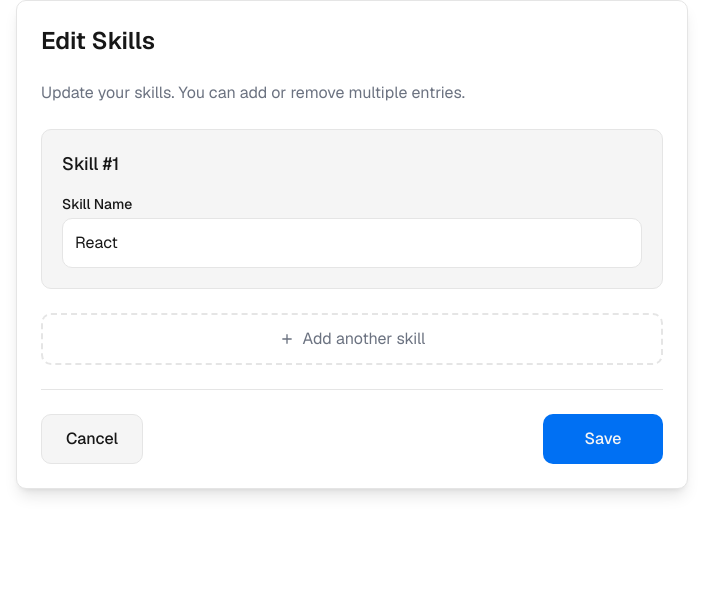
Test case: EditAbilitiesForm Component › Walidacja i przesyłanie (Submit) › powinien zapisać dane, wyświetlić komunikat o skucesie i przekierować usera po upływie czasu
The width and height of the screenshot is (705, 597).
Replace the text in the field with "React Native": (352, 243) x1=62 y1=218 x2=642 y2=268
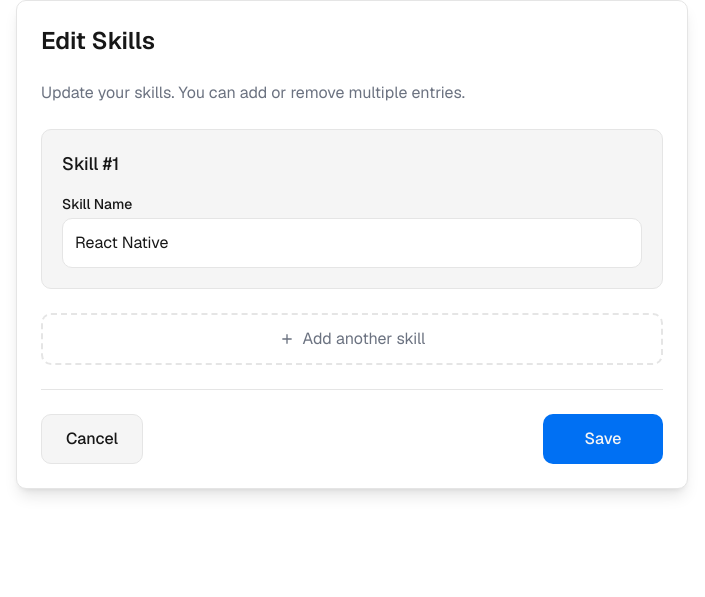
Click the button "Save": click(603, 439) x1=543 y1=414 x2=663 y2=464
Wait 1500 ms
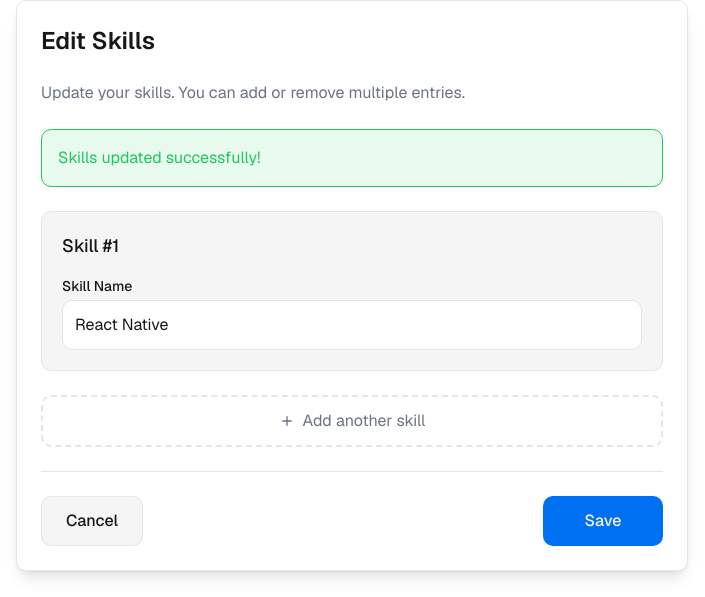
Expected: the text "Skills updated successfully!" is shown, x1=41 y1=129 x2=663 y2=187
